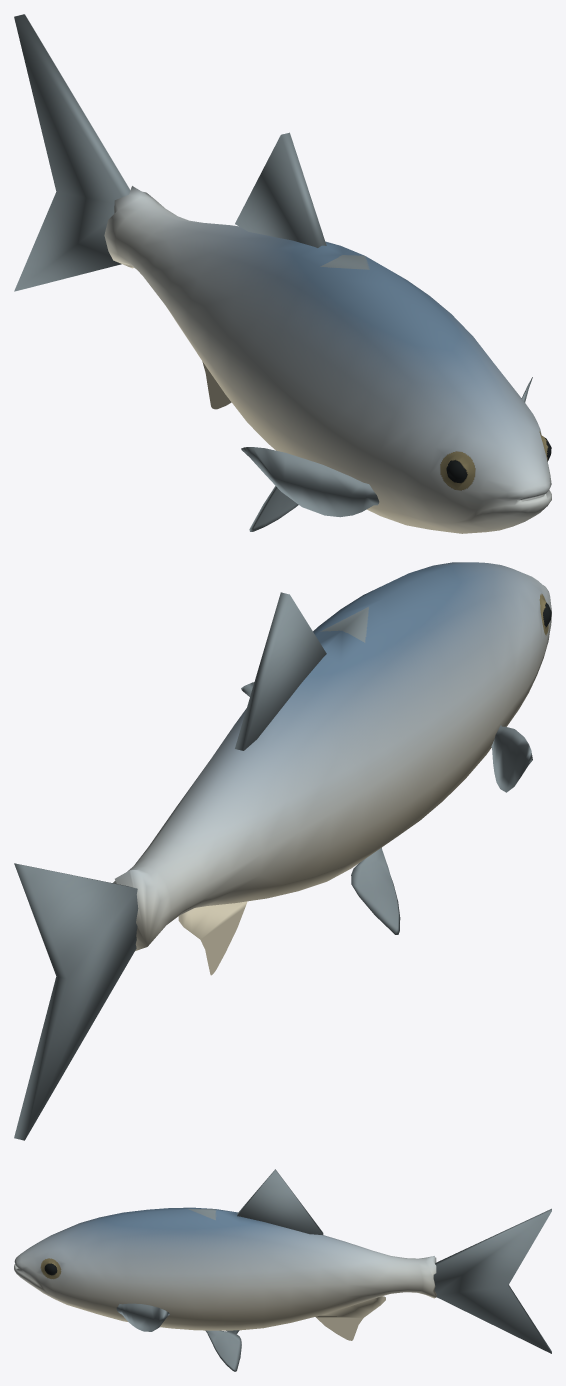
Rendered from fish_silver.fbx.
3 renders of one model, top to bottom at view 1: azimuth 30°, elevation 25°; view 2: azimuth 150°, elevation 25°; view 3: azimuth 270°, elevation 25°, orthographic. The views are drawn at different scales.
Parts seen in each view (by area): view 1: fish_silver.002; view 2: fish_silver.002; view 3: fish_silver.002.
Part boxes in pixels (x1=…): fish_silver.002: x1=14, y1=14, x2=551, y2=533; fish_silver.002: x1=14, y1=562, x2=551, y2=1140; fish_silver.002: x1=14, y1=1169, x2=551, y2=1371.
Size of the model in its own units: 0.0815 by 0.0938 by 0.25.
1 material, 1 textured.
